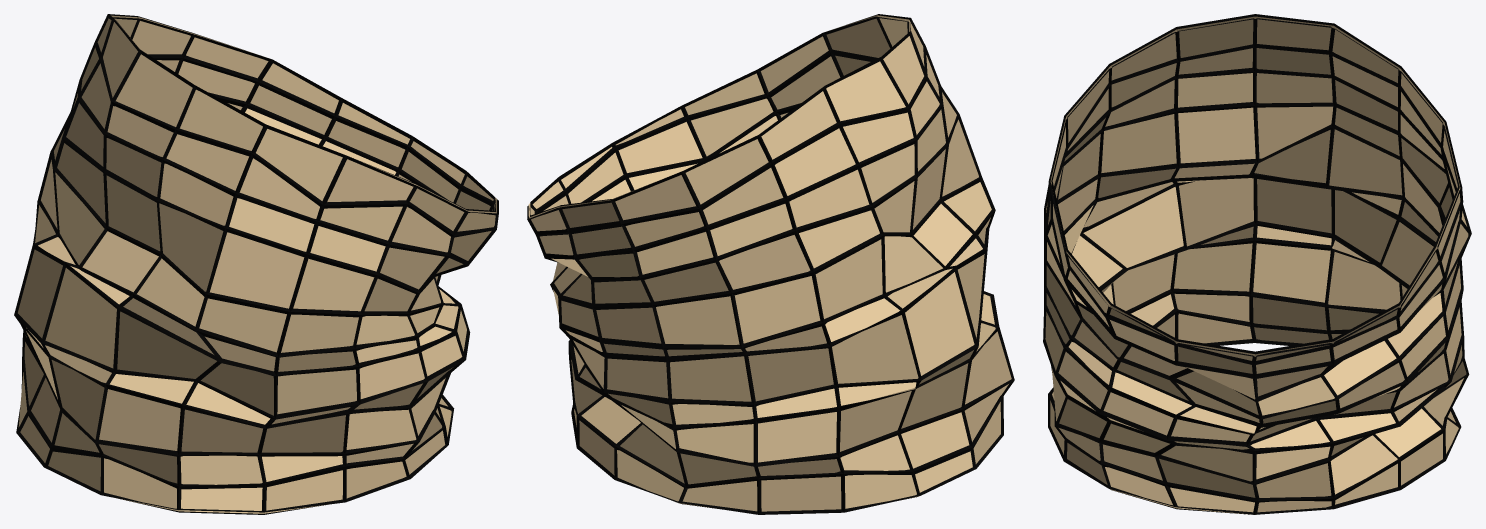
3 renders of one model, left to right at view 1: azimuth 30°, elevation 25°; view 2: azimuth 150°, elevation 25°; view 3: azimuth 270°, elevation 25°, orthographic. The views are drawn at different scales.
Visible parts, largest first — view 1: Cylinder; view 2: Cylinder; view 3: Cylinder.
Part boxes in pixels (x1,y1,x2,y2): Cylinder: [14, 14, 498, 514]; Cylinder: [527, 14, 1014, 514]; Cylinder: [1043, 14, 1471, 514].
Size of the model in its own units: 2.26 by 2.01 by 2.09.
